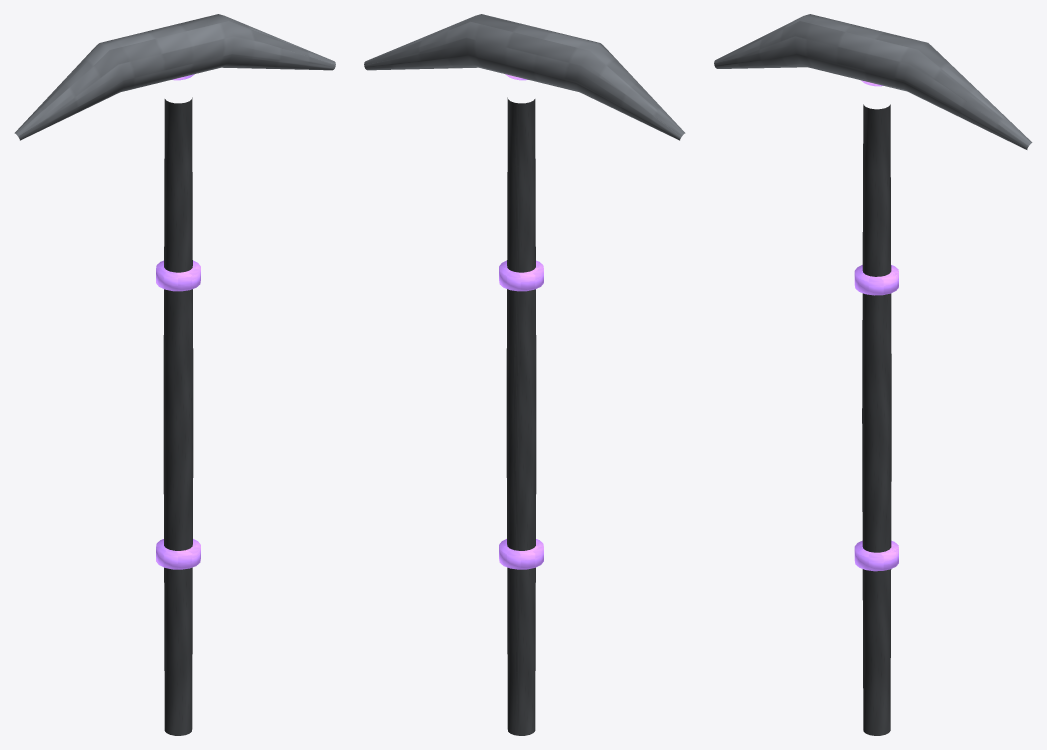
File: generic_pickaxe_magic.glb
The picture shows the model from 3 angles, left to right: view 1: azimuth 30°, elevation 25°; view 2: azimuth 150°, elevation 25°; view 3: azimuth 330°, elevation 25°; orthographic projection.
Visible parts, largest first — view 1: Magic Pickaxe; view 2: Magic Pickaxe; view 3: Magic Pickaxe.
Part boxes in pixels (left/top/right/bottom): Magic Pickaxe: left=14, top=14, right=335, bottom=735; Magic Pickaxe: left=364, top=14, right=685, bottom=735; Magic Pickaxe: left=714, top=14, right=1032, bottom=735.
Size of the model in its own units: 0.465 by 0.9782 by 0.0663.
Materials: 3 (3 with a texture image).
